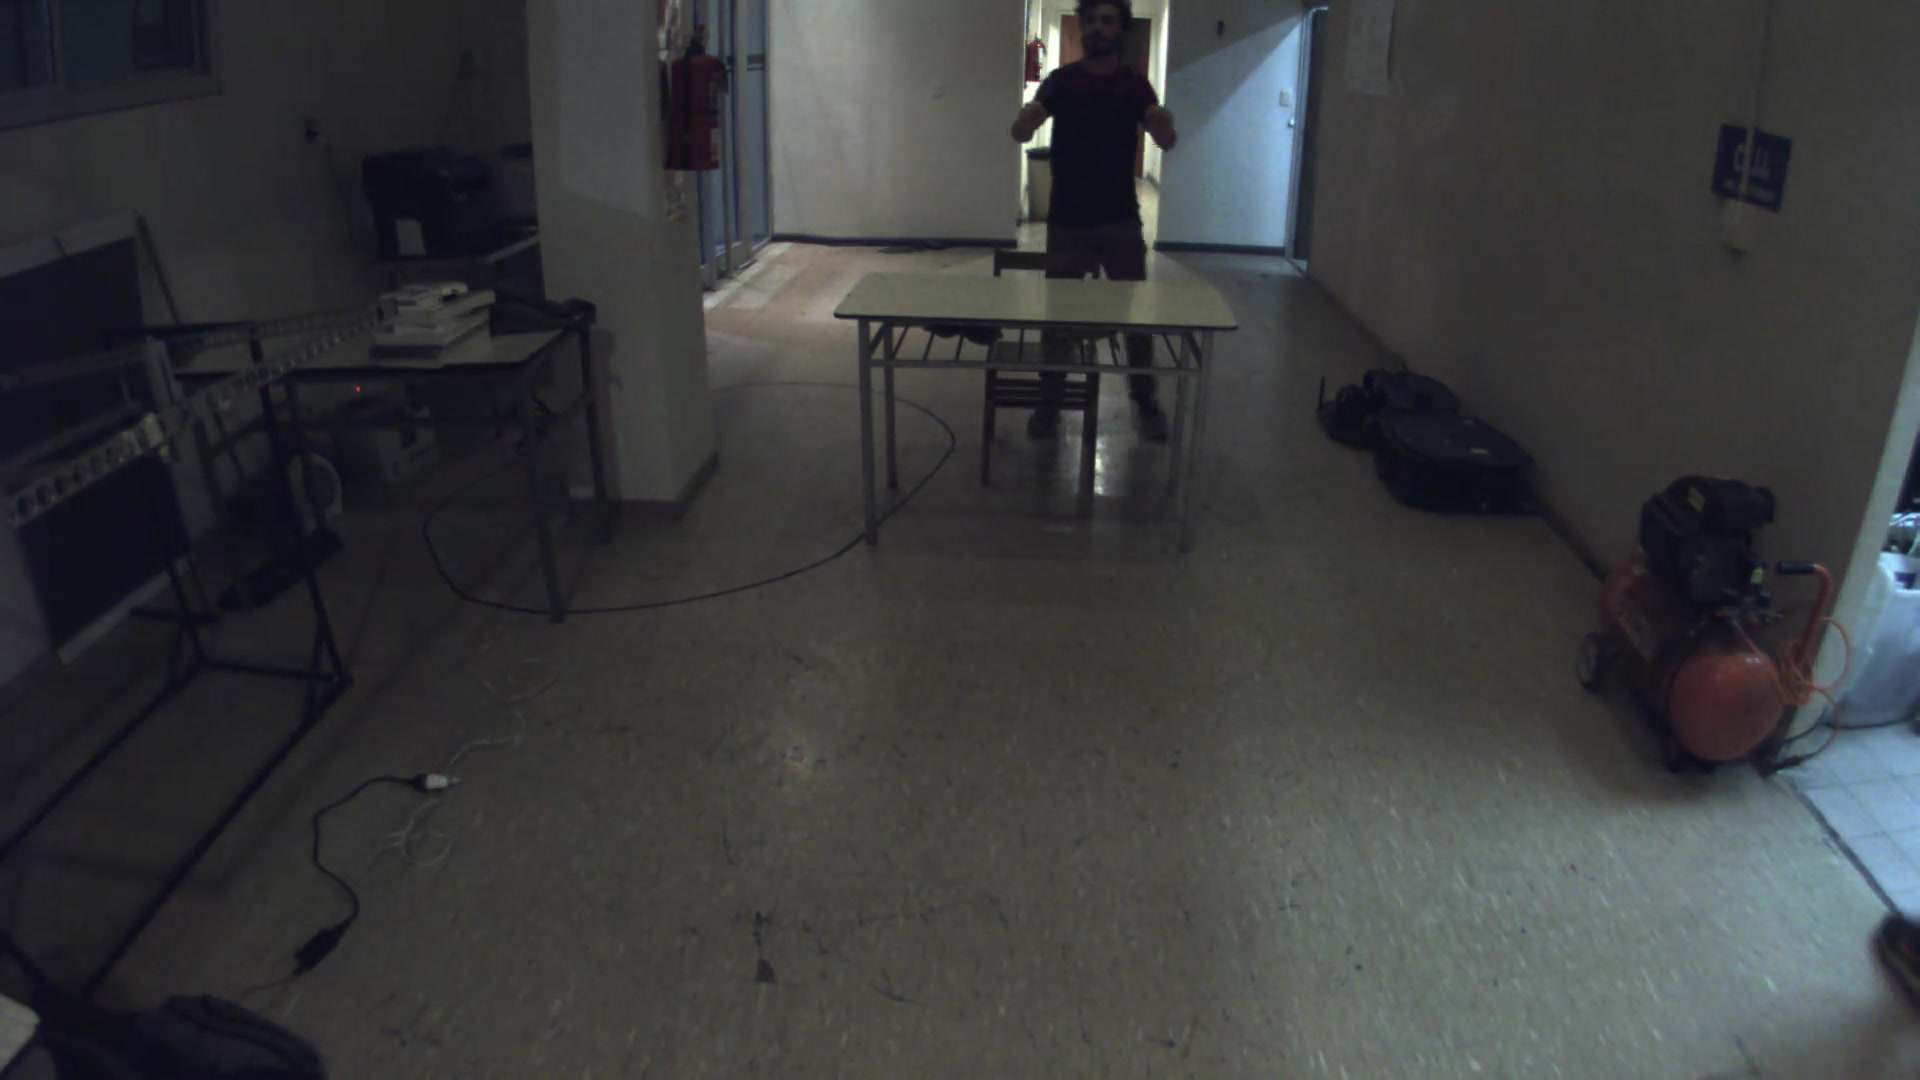hand: (1005, 88, 1048, 131), (1135, 99, 1176, 138)
